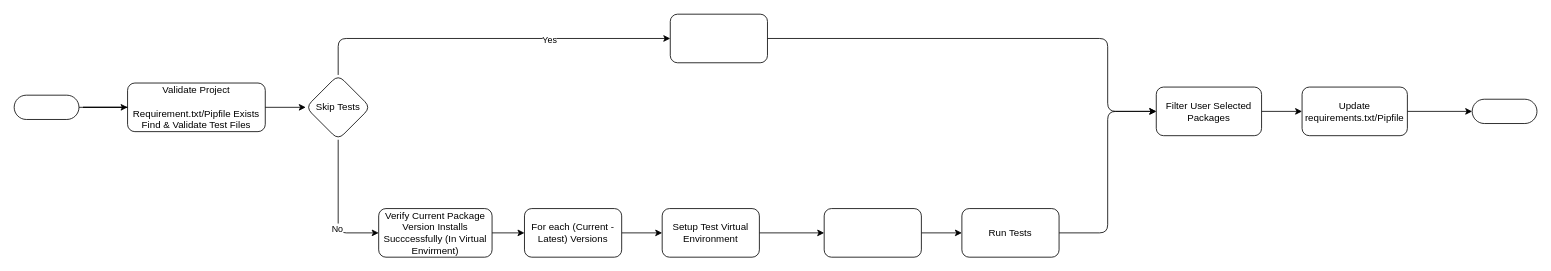
This 1551x271 diagram has some shape labels left out. Each missing label, with the centre of its shape:
End: the point at 1504,111
Get Latest Package Version: the point at 718,38
Install Package Version: the point at 872,232
Start: the point at 46,106
